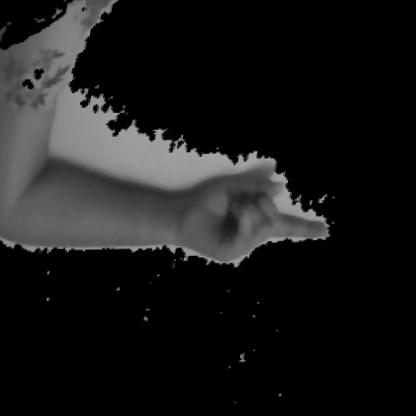one: (0, 108, 355, 291)
